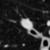node: (19, 17, 33, 30), (45, 19, 50, 26), (21, 43, 26, 47), (4, 44, 8, 48)
